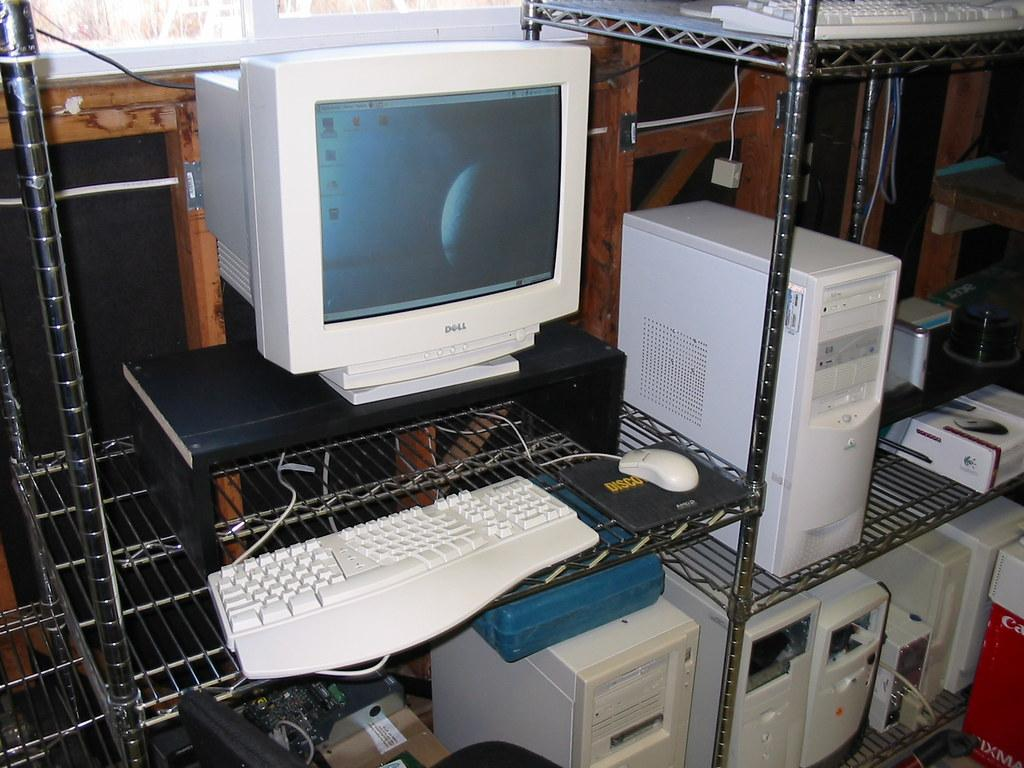computer: (194, 41, 592, 406), (617, 200, 903, 579), (429, 595, 701, 768)
